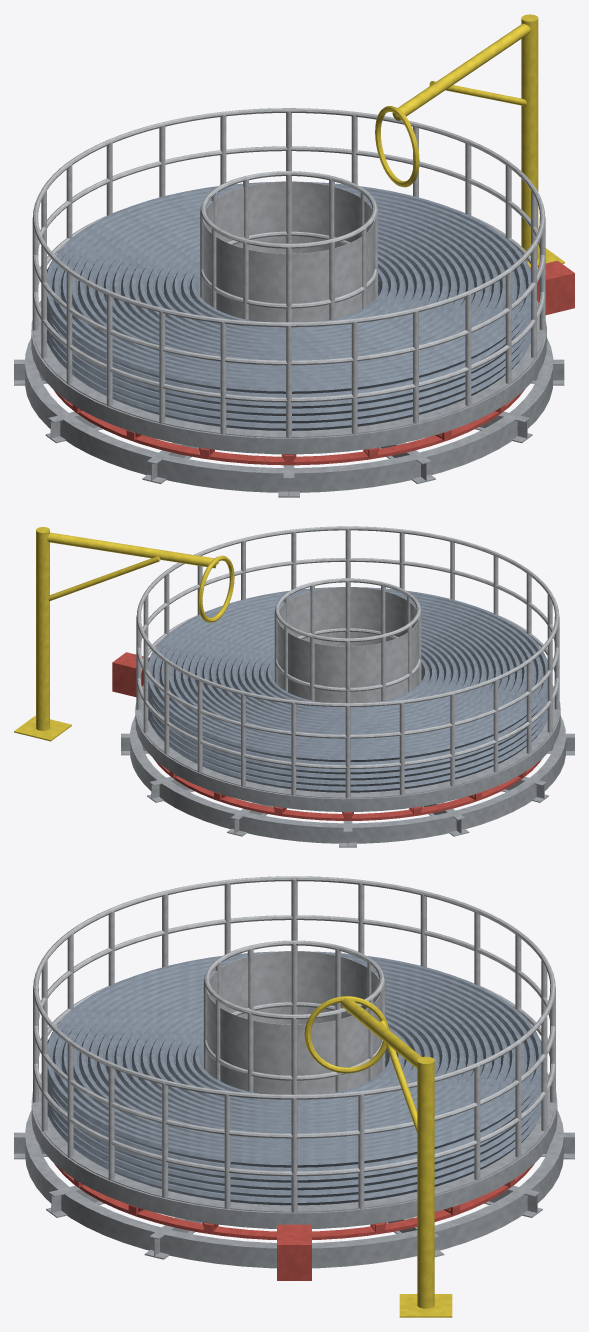
The model's file is cable-carousels.glb.
3 renders of one model, top to bottom at view 1: azimuth 30°, elevation 25°; view 2: azimuth 150°, elevation 25°; view 3: azimuth 270°, elevation 25°, orthographic. The views are drawn at different scales.
Visible parts, largest first — view 1: Cable(context), OuterBasket, InnerCore, BaseFrame, Turntable, LoadingArm, RollerTrack&Drive; view 2: Cable(context), OuterBasket, InnerCore, BaseFrame, Turntable, LoadingArm, RollerTrack&Drive; view 3: Cable(context), OuterBasket, InnerCore, BaseFrame, Turntable, LoadingArm, RollerTrack&Drive.
Part boxes in pixels (x1,y1,x2,y2): Cable(context): [47, 182, 530, 430]; OuterBasket: [32, 108, 545, 438]; InnerCore: [200, 171, 377, 322]; BaseFrame: [14, 338, 564, 497]; Turntable: [31, 300, 546, 454]; LoadingArm: [375, 14, 564, 267]; RollerTrack&Drive: [54, 260, 574, 465]; Cable(context): [148, 587, 547, 792]; OuterBasket: [136, 526, 559, 798]; InnerCore: [274, 578, 421, 703]; BaseFrame: [121, 716, 574, 847]; Turntable: [135, 685, 560, 811]; LoadingArm: [14, 527, 234, 741]; RollerTrack&Drive: [112, 652, 541, 820]; Cable(context): [47, 951, 541, 1205]; OuterBasket: [33, 876, 555, 1212]; InnerCore: [203, 940, 385, 1094]; BaseFrame: [14, 1110, 574, 1268]; Turntable: [31, 1072, 557, 1228]; LoadingArm: [304, 996, 452, 1317]; RollerTrack&Drive: [54, 1163, 534, 1280].
Bounding box in the file's own units: 15.2 × 6.2 × 12.8.
Materials: 5 (5 with a texture image).
